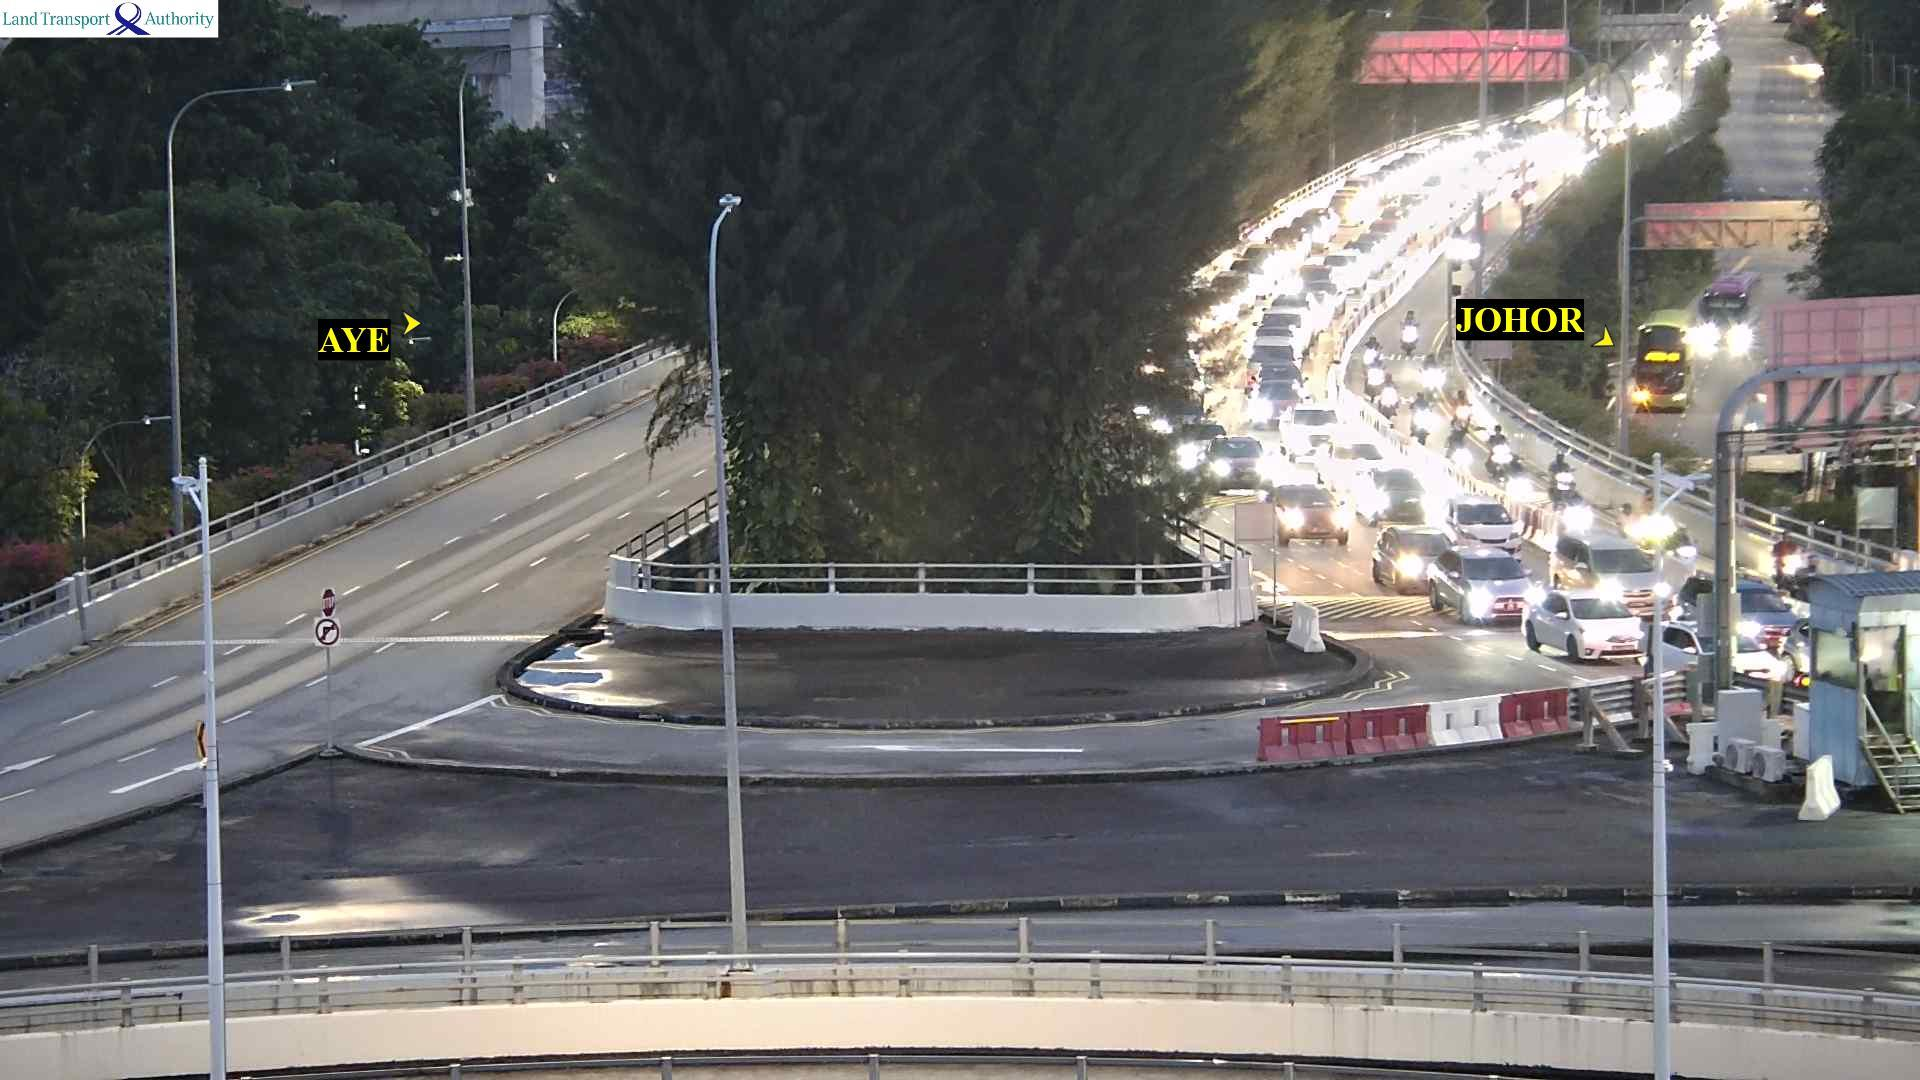vehicle-secondlink-johor: (1654, 620, 1784, 691), (1677, 574, 1796, 647), (1429, 543, 1534, 621), (1531, 592, 1648, 658), (1542, 542, 1668, 593), (1259, 483, 1349, 545), (1370, 524, 1453, 589), (1353, 467, 1423, 520), (1437, 504, 1523, 546), (1209, 434, 1267, 492), (1280, 404, 1337, 458), (1250, 338, 1303, 380), (1767, 527, 1797, 589), (1255, 385, 1305, 417), (1793, 556, 1829, 592), (1445, 425, 1472, 471), (1407, 393, 1431, 443), (1373, 382, 1402, 419), (1490, 423, 1514, 468), (1551, 451, 1575, 496), (1398, 310, 1422, 353), (1418, 352, 1443, 390), (1366, 367, 1390, 396), (1453, 390, 1472, 425), (1362, 332, 1378, 371)
